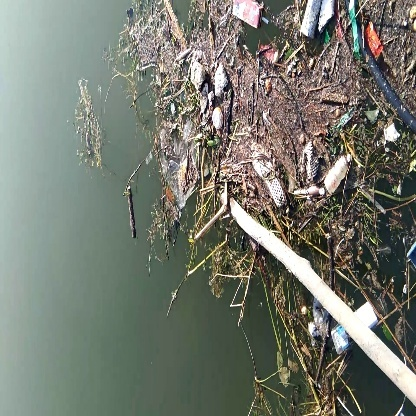branch: (123, 183, 143, 240)
